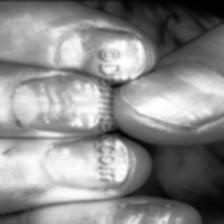Toxin: (54, 78, 92, 131), (122, 30, 146, 88), (134, 202, 178, 224), (114, 138, 130, 183)
